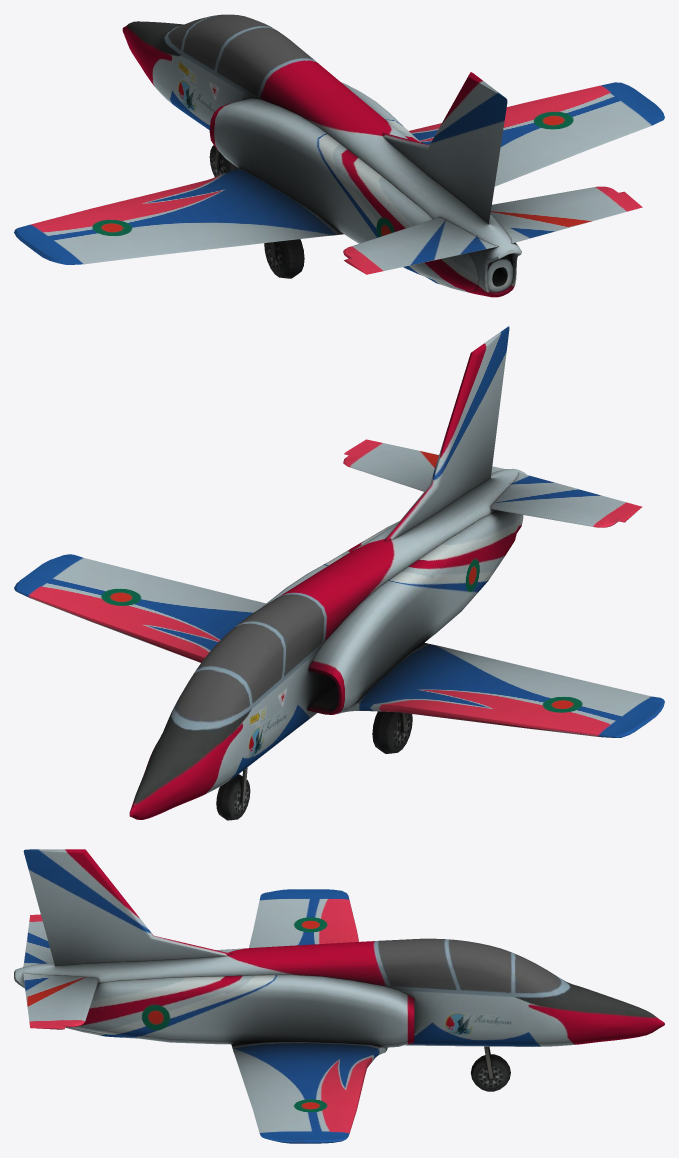
The model's file is Airplane_VGJR_K8.glb.
The picture shows the model from 3 angles, top to bottom: view 1: azimuth 30°, elevation 25°; view 2: azimuth 150°, elevation 25°; view 3: azimuth 270°, elevation 25°; orthographic projection. The views are drawn at different scales.
Parts seen in each view (by area): view 1: Body, Landing_Wheel; view 2: Body, Landing_Wheel; view 3: Body, Landing_Wheel.
Part boxes in pixels (x1,y1,x2,y2): Body: (14,14,664,297); Landing_Wheel: (209,145,304,278); Body: (14,326,664,819); Landing_Wheel: (216,711,412,820); Body: (14,849,664,1143); Landing_Wheel: (471,1046,510,1091).
Size of the model in its own units: 0.9796 by 0.4394 by 1.07.
1 material, 1 textured.
